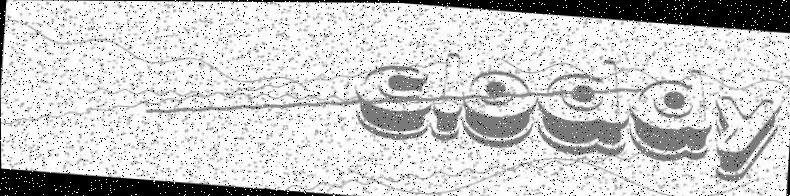c: (350, 59, 434, 143)
d: (532, 53, 633, 158), (626, 63, 714, 164)
l: (430, 50, 466, 143)
o: (459, 67, 538, 151)
y: (709, 91, 782, 185)
